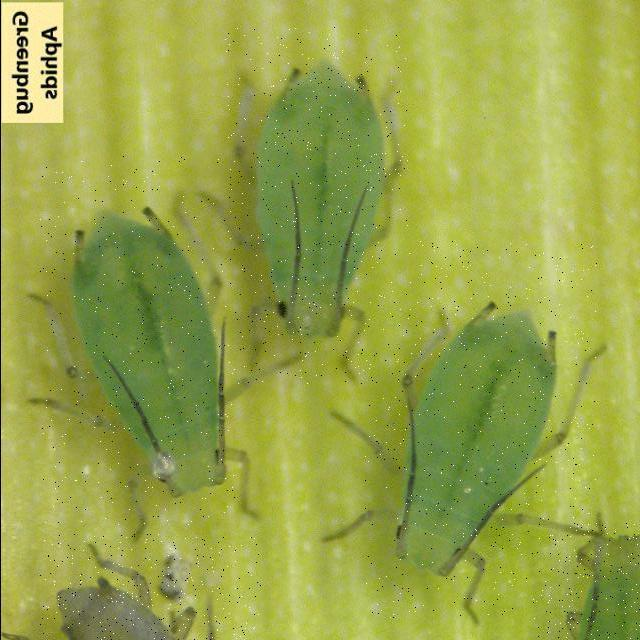aphid: (364, 241, 596, 619), (39, 156, 234, 525), (222, 24, 408, 384), (37, 534, 260, 640), (537, 522, 640, 640)
